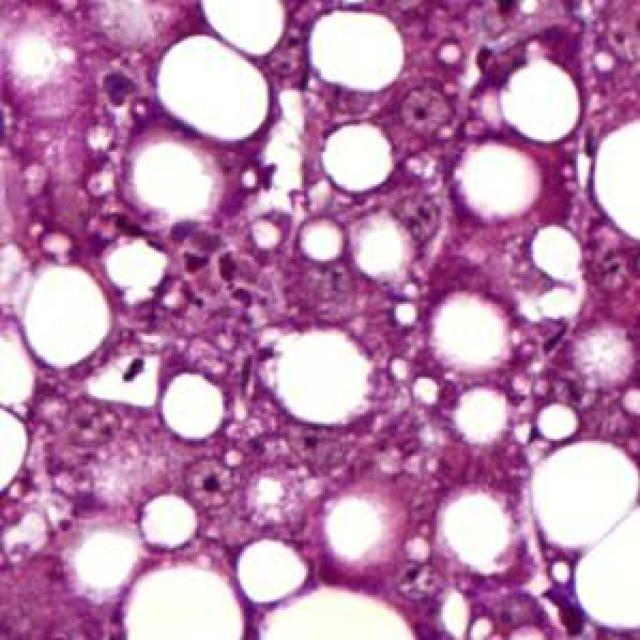steatosis: (150, 34, 270, 148), (17, 259, 120, 372), (308, 6, 409, 94), (494, 60, 582, 141), (156, 377, 229, 441), (233, 535, 304, 599)
